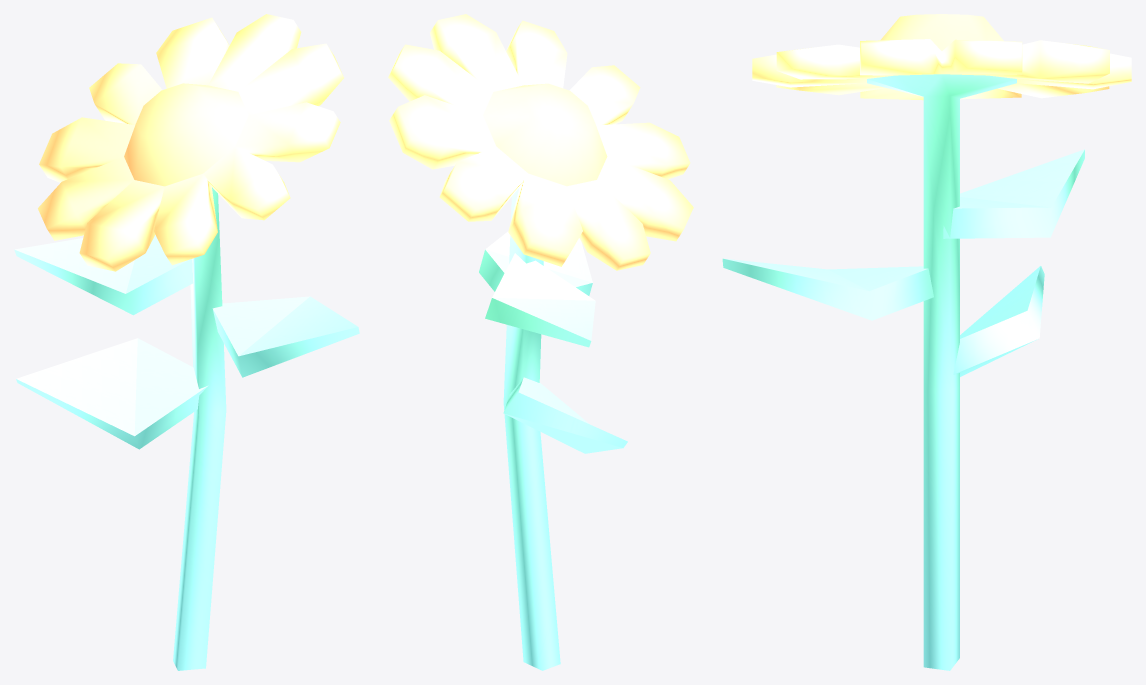
The model's file is Wild_Flower_Yellow.glb.
The picture shows the model from 3 angles, left to right: view 1: azimuth 30°, elevation 25°; view 2: azimuth 150°, elevation 25°; view 3: azimuth 270°, elevation 25°; orthographic projection. The views are drawn at different scales.
Parts seen in each view (by area): view 1: Wild_flower_Yellow; view 2: Wild_flower_Yellow; view 3: Wild_flower_Yellow.
Boxes of the visible parts, left/top/right/bottom form: Wild_flower_Yellow: left=14, top=14, right=359, bottom=670; Wild_flower_Yellow: left=388, top=14, right=693, bottom=670; Wild_flower_Yellow: left=722, top=14, right=1131, bottom=670.
Bounding box in the file's own units: 0.4109 × 0.9161 × 0.4944.
